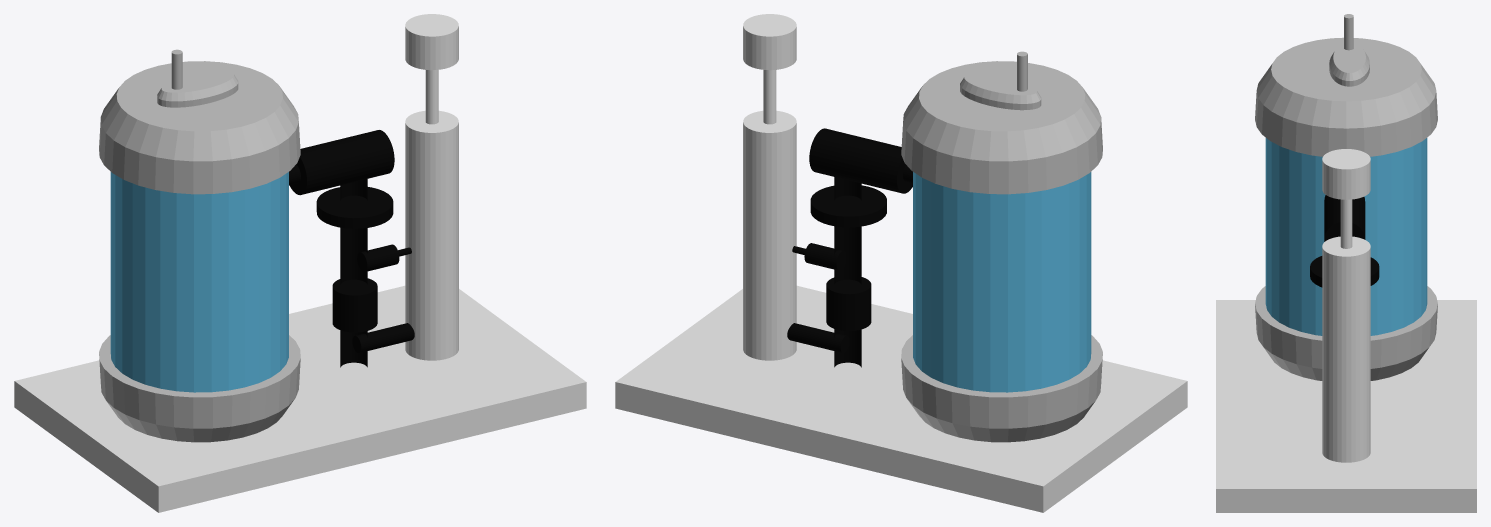
Rendered from denitrifier.gltf.
3 views of the same model, side by side, from view 1: azimuth 30°, elevation 25°; view 2: azimuth 150°, elevation 25°; view 3: azimuth 270°, elevation 25° (orthographic). The views are drawn at different scales.
Parts seen in each view (by area): view 1: Cube, Tube, Container, Cylinder, Cylinder.007; view 2: Cube, Tube, Container, Cylinder, Cylinder.007; view 3: Cube, Container, Tube, Cylinder, Cylinder.007.
Boxes of the visible parts, x1,y1,x2,y2 form: Cube: (14,285,586,512); Tube: (110,172,288,392); Container: (99,49,300,442); Cylinder: (405,14,458,360); Cylinder.007: (289,130,414,367); Cube: (615,285,1187,512); Tube: (913,172,1091,392); Container: (901,51,1102,442); Cylinder: (743,14,796,360); Cylinder.007: (787,128,912,367); Cube: (1216,300,1476,512); Container: (1255,14,1437,380); Tube: (1265,138,1427,335); Cylinder: (1322,149,1370,462); Cylinder.007: (1310,195,1379,287).
Size of the model in its own units: 5.53 by 4.75 by 3.22.
